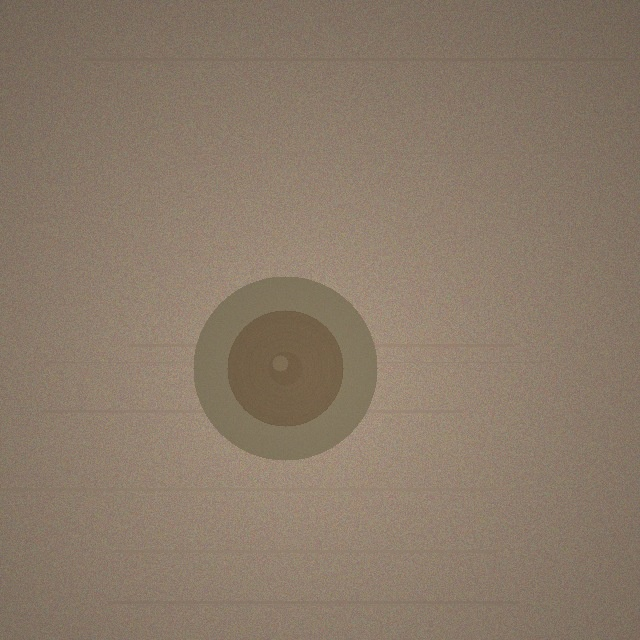good: (193, 276, 377, 460)
